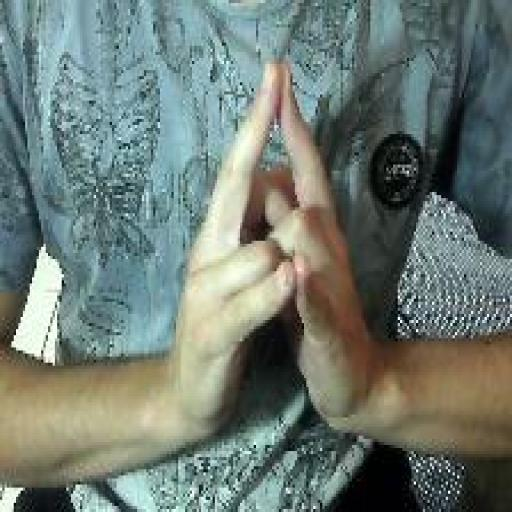Tori -bird-: (167, 55, 375, 451)
